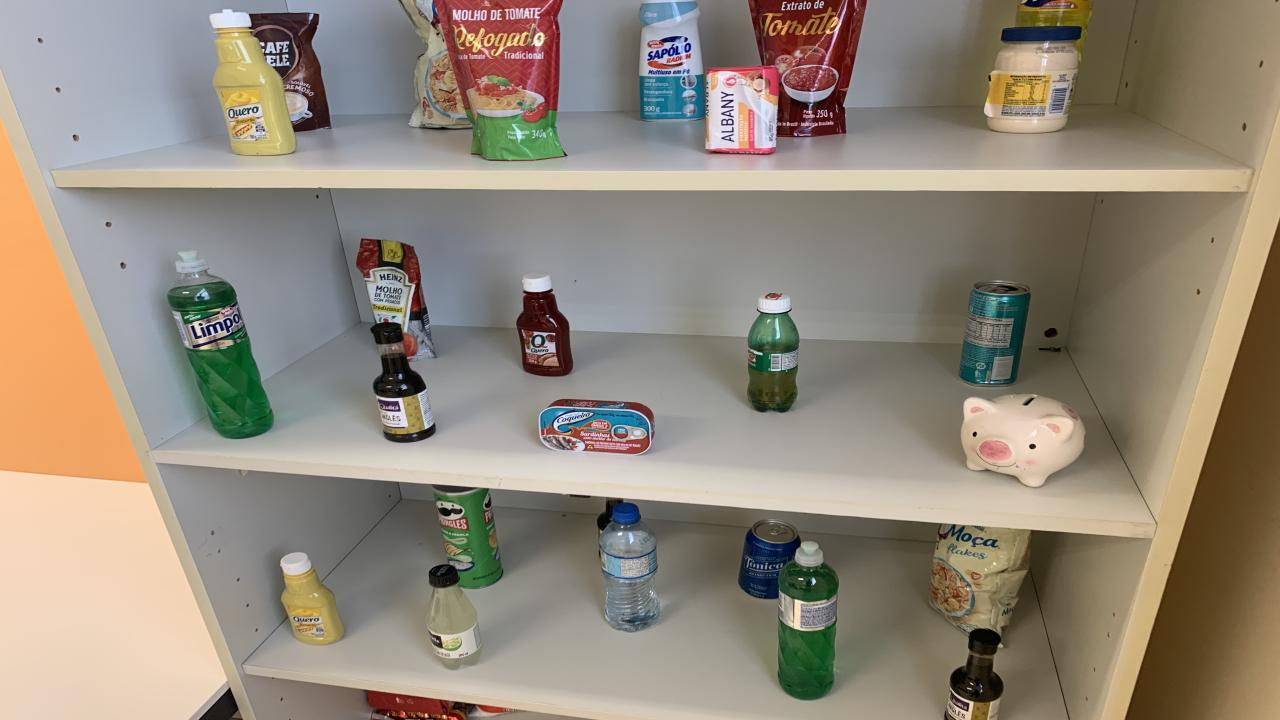Cleaner-Cleanup_Items: (638, 0, 705, 122)
Coffee-Pantry_Items: (250, 13, 330, 131)
Detergent-Cleanup_Items: (168, 251, 272, 439), (778, 542, 840, 699), (1015, 0, 1092, 54)
English_Sauce-Pantry_Items: (370, 322, 435, 442), (945, 628, 1002, 720), (598, 497, 622, 534)
Flakes-Snacks: (930, 525, 1030, 632), (400, 0, 472, 129)
Guarana-Drinks: (748, 292, 800, 412)
Ketchup-Pantry_Items: (518, 272, 572, 377)
Mayonnaise-Pantry_Items: (985, 26, 1082, 133)
Mustard-Pantry_Items: (210, 9, 298, 156), (280, 551, 345, 645)
Pig_Safe-Miscellaneous: (960, 394, 1085, 488)
Pringles-Snacks: (432, 486, 502, 589)
Soap-Cleanup_Items: (705, 66, 780, 154)
Soda-Drinks: (428, 564, 482, 669)
Tea-Drinks: (958, 281, 1030, 386)
Tomato_Sauce-Pantry_Items: (435, 0, 565, 161), (750, 0, 865, 137), (358, 238, 435, 360)
Tonic-Drinks: (738, 519, 800, 598)
Tuna_Can-Pantry_Items: (540, 399, 655, 454)
Water_Bottle-Drinks: (600, 502, 660, 632)
